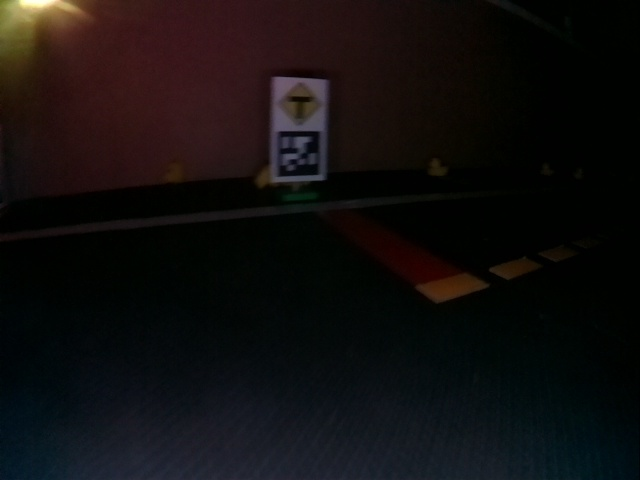Duckie: (429, 158, 448, 177), (167, 163, 182, 182)
Intersection sign: (275, 79, 325, 128)
QR code: (273, 131, 323, 180)
